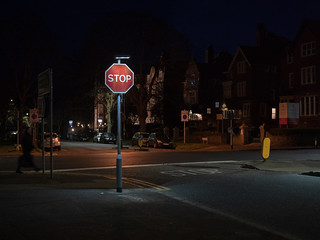StopSign: (104, 62, 134, 93)
